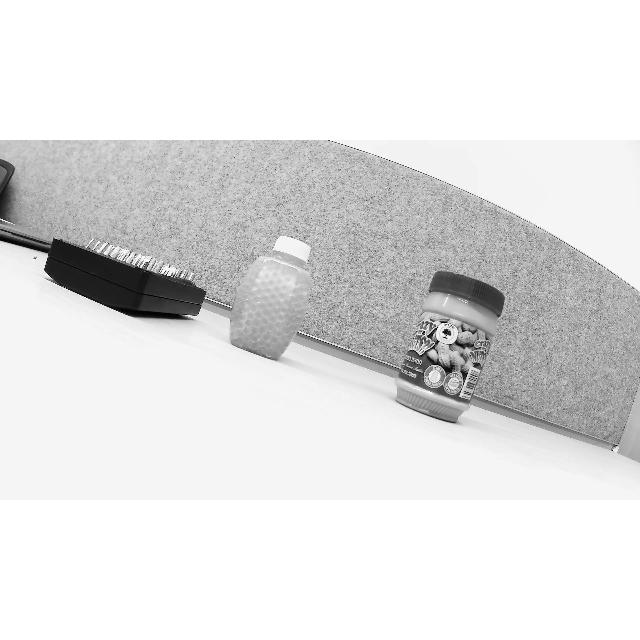targets: (399, 268, 507, 422), (41, 241, 213, 319), (230, 240, 312, 358)
